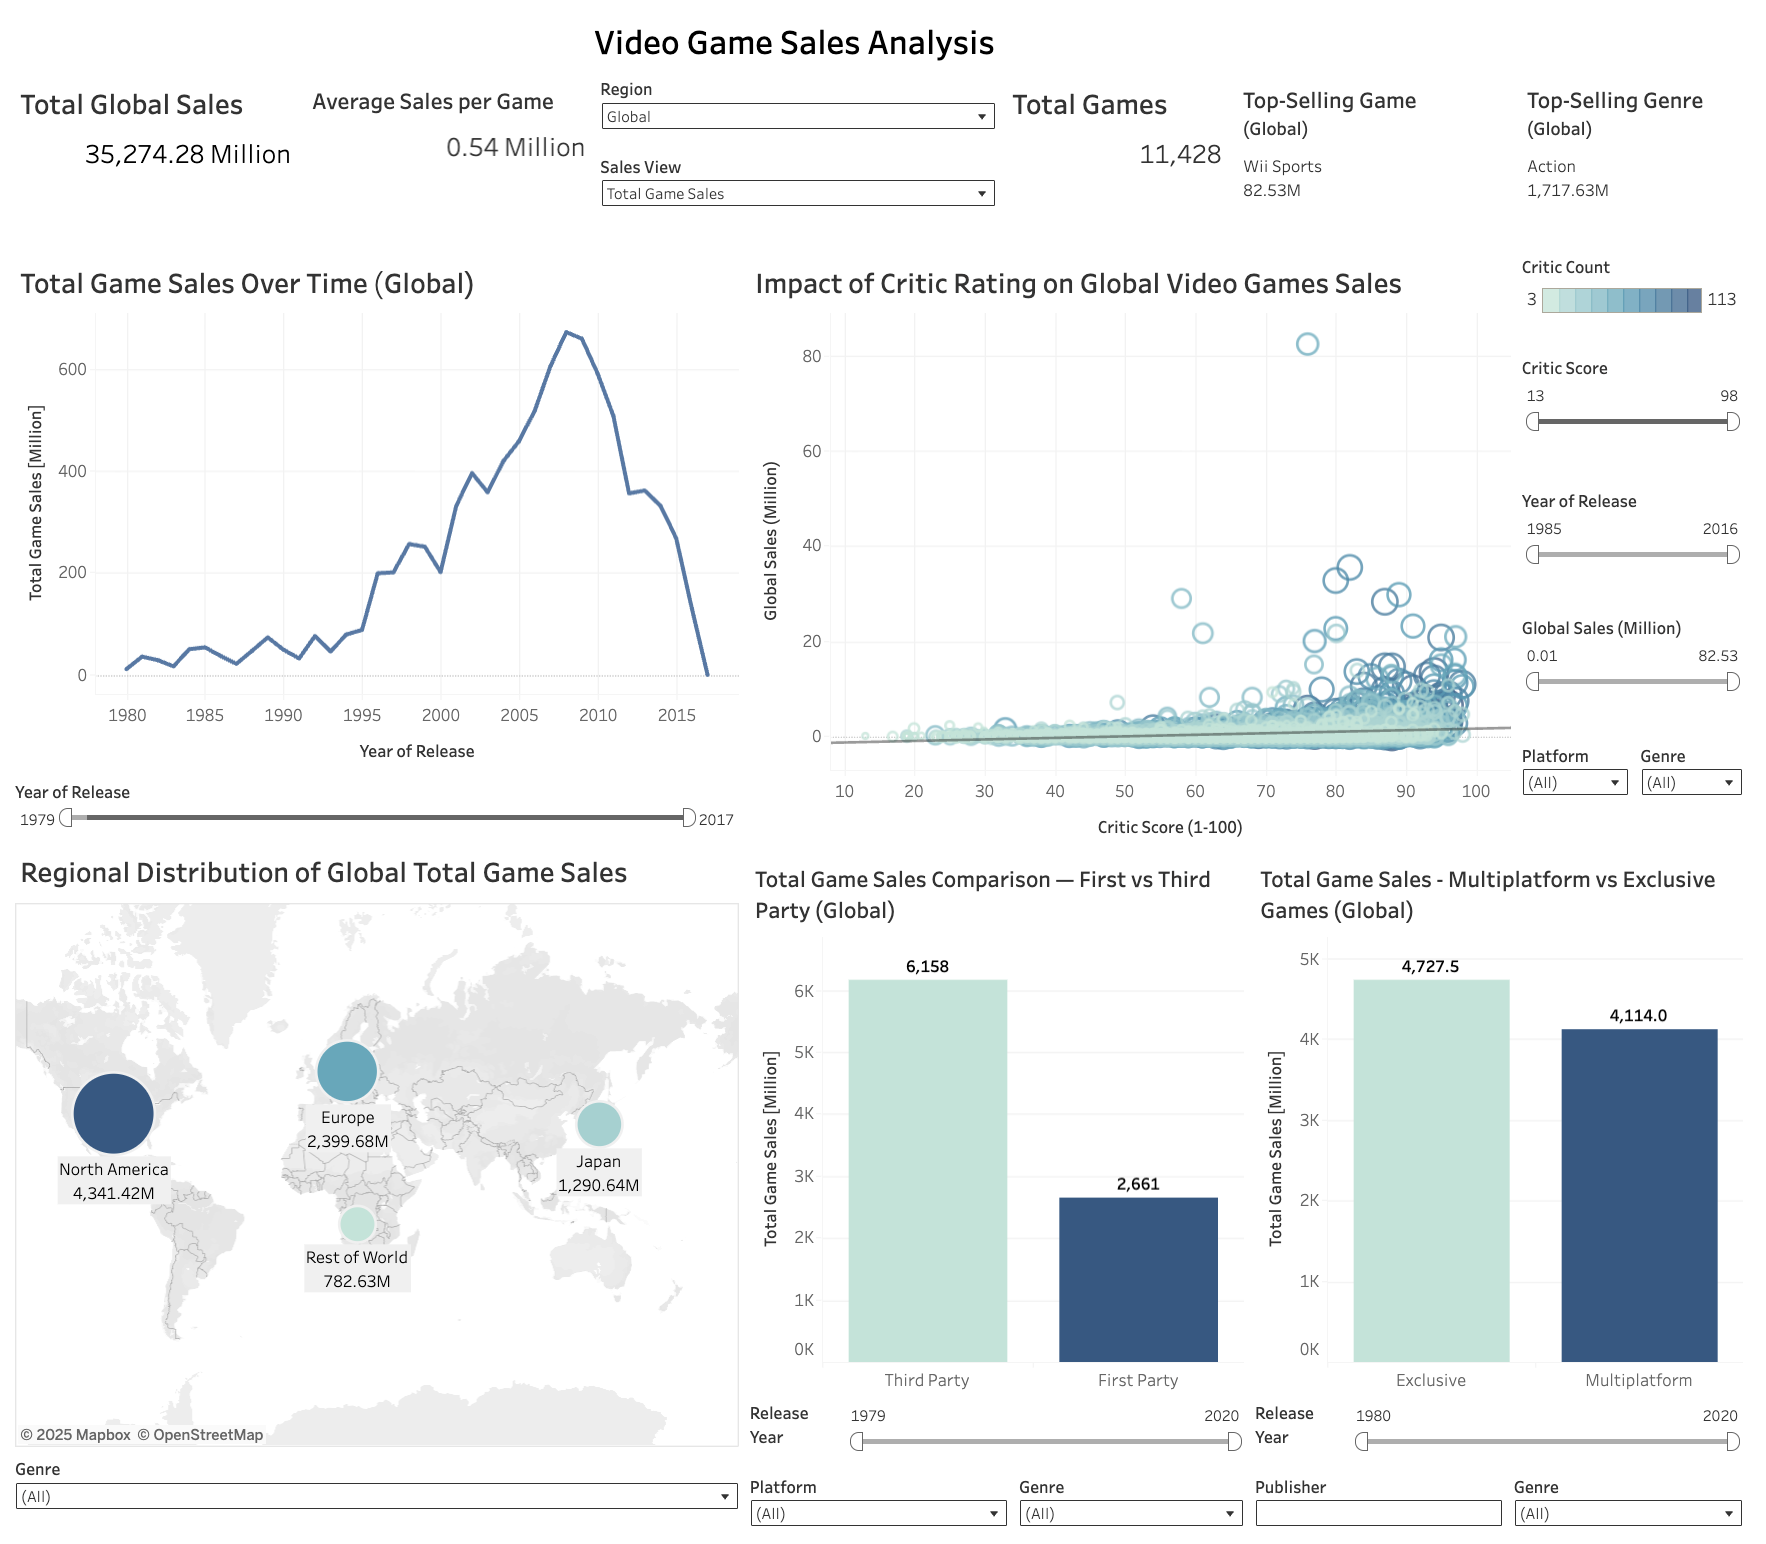

What the dashboard file says about the page in this screenshot:
{"tool":"tableau","page":{"name":"Video Game Sales Analysis Dashboard","canvas":[1000,1000],"units":"permille","ordinal":0},"visuals":[{"type":"blank","box":[6.1,9.8,242.4,39.1]},{"type":"text","box":[248.5,9.8,406.8,39.1]},{"type":"blank","box":[655.3,9.8,338.7,39.1]},{"type":"worksheet","title":"Total Global Sales","mark":"Automatic","box":[6.1,49,165.7,115.2]},{"type":"worksheet","title":"Average Sales per Game","mark":"Text","box":[171.8,49,166.8,115.2]},{"type":"parameter","param":"[Parameters].[Parameter 2]","box":[338.6,49,231.1,49.6]},{"type":"worksheet","title":"Total Games","mark":"Automatic","box":[569.7,49,131.1,115.2]},{"type":"worksheet","title":"Top Selling Game","mark":"Automatic","box":[700.7,49,161.4,115.2]},{"type":"worksheet","title":"Top Selling Genre","mark":"Automatic","box":[862.1,49,131.8,115.2]},{"type":"parameter","param":"[Parameters].[Parameter 1]","box":[338.6,98.6,231.1,65.5]},{"type":"worksheet","title":"Sales Over Time","mark":"Automatic","rows":["Calculation_6742733130023866369"],"cols":["Year_of_Release"],"box":[6.1,164.2,417.2,336.9]},{"type":"worksheet","title":"Impact of Critic Rating on Global Video Games Sales","mark":"Shape","rows":["Global_Sales"],"cols":["Critic_Score"],"box":[423.3,164.2,438.8,385.9]},{"type":"legend","title":"Impact of Critic Rating on Global Video Games Sales","param":"[federated.0tckowy0lr2kbd1g19mky1a8wu98].[none:Critic_Count:qk]","box":[862.1,164.2,131.8,64.5]},{"type":"filter","title":"Impact of Critic Rating on Global Video Games Sales","param":"[federated.0tckowy0lr2kbd1g19mky1a8wu98].[none:Critic_Score:qk]","box":[862.1,228.7,131.8,85.6]},{"type":"filter","title":"Impact of Critic Rating on Global Video Games Sales","param":"[federated.0tckowy0lr2kbd1g19mky1a8wu98].[none:Year_of_Release:qk]","box":[862.1,314.2,131.8,81.5]},{"type":"filter","title":"Impact of Critic Rating on Global Video Games Sales","param":"[federated.0tckowy0lr2kbd1g19mky1a8wu98].[none:Global_Sales:qk]","box":[862.1,395.7,131.8,82.2]},{"type":"filter","title":"Impact of Critic Rating on Global Video Games Sales","param":"[federated.0tckowy0lr2kbd1g19mky1a8wu98].[none:Platform:nk]","box":[862.1,478,67.4,72.1]},{"type":"filter","title":"Impact of Critic Rating on Global Video Games Sales","param":"[federated.0tckowy0lr2kbd1g19mky1a8wu98].[none:Genre:nk]","box":[929.5,478,64.4,72.1]},{"type":"filter","title":"Sales Over Time","param":"[federated.09wqthy07d7wes1fhidpm1p0jm2j].[none:Year_of_Release:qk]","box":[6.1,501.1,417.2,41.6]},{"type":"worksheet","title":"Regional Distribution of Video Games Sales","mark":"Automatic","box":[6.1,542.7,417.2,393.5]},{"type":"worksheet","title":"Sales Comparison - First vs Third Party","mark":"Bar","rows":["Calculation_487514722234720265"],"cols":["is_first_party"],"box":[423.3,550.1,287.3,350.4]},{"type":"worksheet","title":"Sales Comparison - Multiplatform vs Exclusive","mark":"Automatic","rows":["Calculation_487514722251063308"],"cols":["is_multiplatform"],"box":[710.6,550.1,283.4,350.4]},{"type":"filter","title":"Sales Comparison - First vs Third Party","param":"[federated.08x29eq0ls1qjl10owjch1t2cs1a].[none:Year_of_Release:qk]","box":[423.3,900.5,287.3,46.6]},{"type":"filter","title":"Sales Comparison - Multiplatform vs Exclusive","param":"[federated.1vkesva1gbcqyy14v52vo124owid].[none:Year_of_Release:qk]","box":[710.6,900.5,283.4,47.2]},{"type":"filter","title":"Regional Distribution of Video Games Sales","param":"[federated.0m3um6f1o41wci17ci86j13pul1h].[none:Genre:nk]","box":[6.1,936.2,417.2,53.9]},{"type":"filter","title":"Sales Comparison - First vs Third Party","param":"[federated.08x29eq0ls1qjl10owjch1t2cs1a].[none:Platform:nk]","box":[423.3,947,153.2,43.2]},{"type":"filter","title":"Sales Comparison - First vs Third Party","param":"[federated.08x29eq0ls1qjl10owjch1t2cs1a].[none:Genre:nk]","box":[576.5,947,134.1,43.2]},{"type":"filter","title":"Sales Comparison - Multiplatform vs Exclusive","param":"[federated.1vkesva1gbcqyy14v52vo124owid].[none:Publisher:nk]","box":[710.6,947.6,146.8,42.5]},{"type":"filter","title":"Sales Comparison - Multiplatform vs Exclusive","param":"[federated.1vkesva1gbcqyy14v52vo124owid].[none:Genre:nk]","box":[857.4,947.6,136.6,42.5]}]}

Visuals, with their boxes on the dashboard's canvas, which has no fixed pixel size, in thousandths of its width and height (x1, y1, x2, y2). These are canvas units, not pixel positions in the 1766x1544 screenshot, which may show the page scaled, cropped or inside an application window:
blank: bbox=[6, 10, 248, 49]
text: bbox=[248, 10, 655, 49]
blank: bbox=[655, 10, 994, 49]
"Total Global Sales" worksheet: bbox=[6, 49, 172, 164]
"Average Sales per Game" worksheet (Text marks): bbox=[172, 49, 339, 164]
parameter: bbox=[339, 49, 570, 99]
"Total Games" worksheet: bbox=[570, 49, 701, 164]
"Top Selling Game" worksheet: bbox=[701, 49, 862, 164]
"Top Selling Genre" worksheet: bbox=[862, 49, 994, 164]
parameter: bbox=[339, 99, 570, 164]
"Sales Over Time" worksheet: bbox=[6, 164, 423, 501]
"Impact of Critic Rating on Global Video Games Sales" worksheet (Shape marks): bbox=[423, 164, 862, 550]
"Impact of Critic Rating on Global Video Games Sales" legend: bbox=[862, 164, 994, 229]
"Impact of Critic Rating on Global Video Games Sales" filter: bbox=[862, 229, 994, 314]
"Impact of Critic Rating on Global Video Games Sales" filter: bbox=[862, 314, 994, 396]
"Impact of Critic Rating on Global Video Games Sales" filter: bbox=[862, 396, 994, 478]
"Impact of Critic Rating on Global Video Games Sales" filter: bbox=[862, 478, 930, 550]
"Impact of Critic Rating on Global Video Games Sales" filter: bbox=[930, 478, 994, 550]
"Sales Over Time" filter: bbox=[6, 501, 423, 543]
"Regional Distribution of Video Games Sales" worksheet: bbox=[6, 543, 423, 936]
"Sales Comparison - First vs Third Party" worksheet (Bar marks): bbox=[423, 550, 711, 900]
"Sales Comparison - Multiplatform vs Exclusive" worksheet: bbox=[711, 550, 994, 900]
"Sales Comparison - First vs Third Party" filter: bbox=[423, 900, 711, 947]
"Sales Comparison - Multiplatform vs Exclusive" filter: bbox=[711, 900, 994, 948]
"Regional Distribution of Video Games Sales" filter: bbox=[6, 936, 423, 990]
"Sales Comparison - First vs Third Party" filter: bbox=[423, 947, 576, 990]
"Sales Comparison - First vs Third Party" filter: bbox=[576, 947, 711, 990]
"Sales Comparison - Multiplatform vs Exclusive" filter: bbox=[711, 948, 857, 990]
"Sales Comparison - Multiplatform vs Exclusive" filter: bbox=[857, 948, 994, 990]
